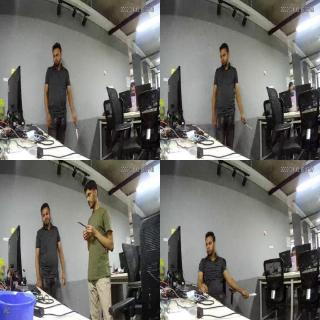knife: (72, 122, 82, 142), (241, 120, 252, 132), (75, 220, 88, 230), (244, 290, 256, 300)
